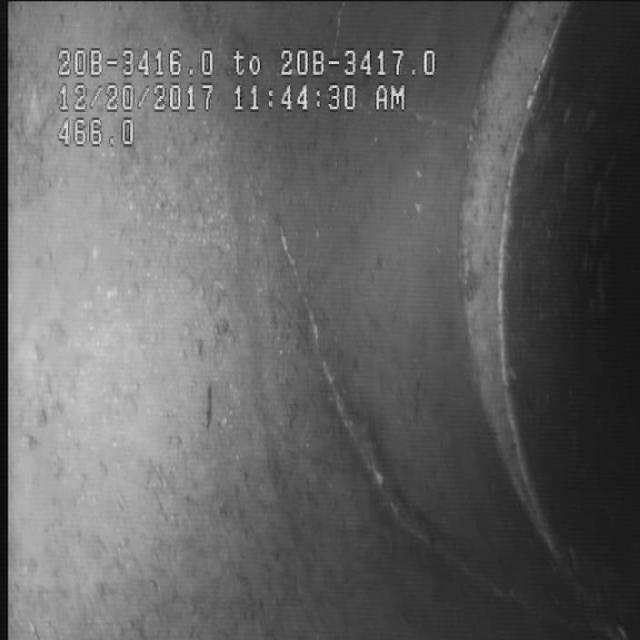Crack: (240, 192, 462, 558)
